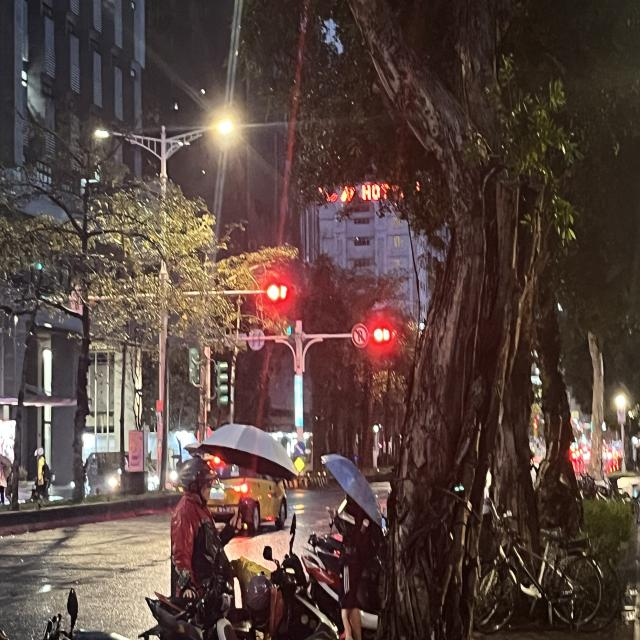red light: (265, 280, 303, 304), (374, 327, 400, 344)
